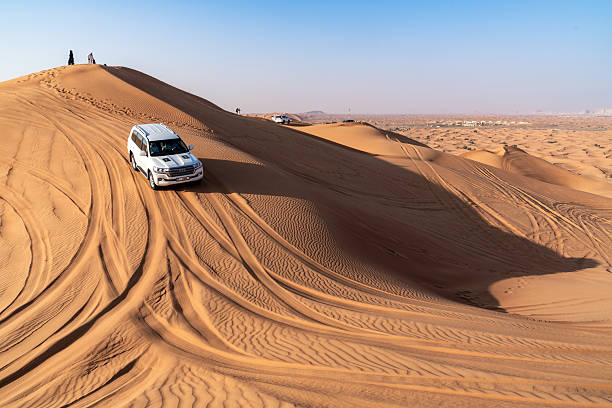vehicle_track: (0, 67, 611, 406)
